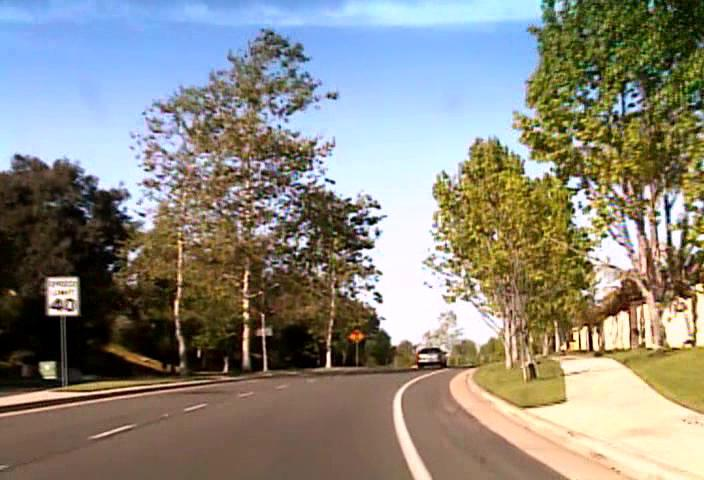speedLimit40: (45, 275, 79, 316)
